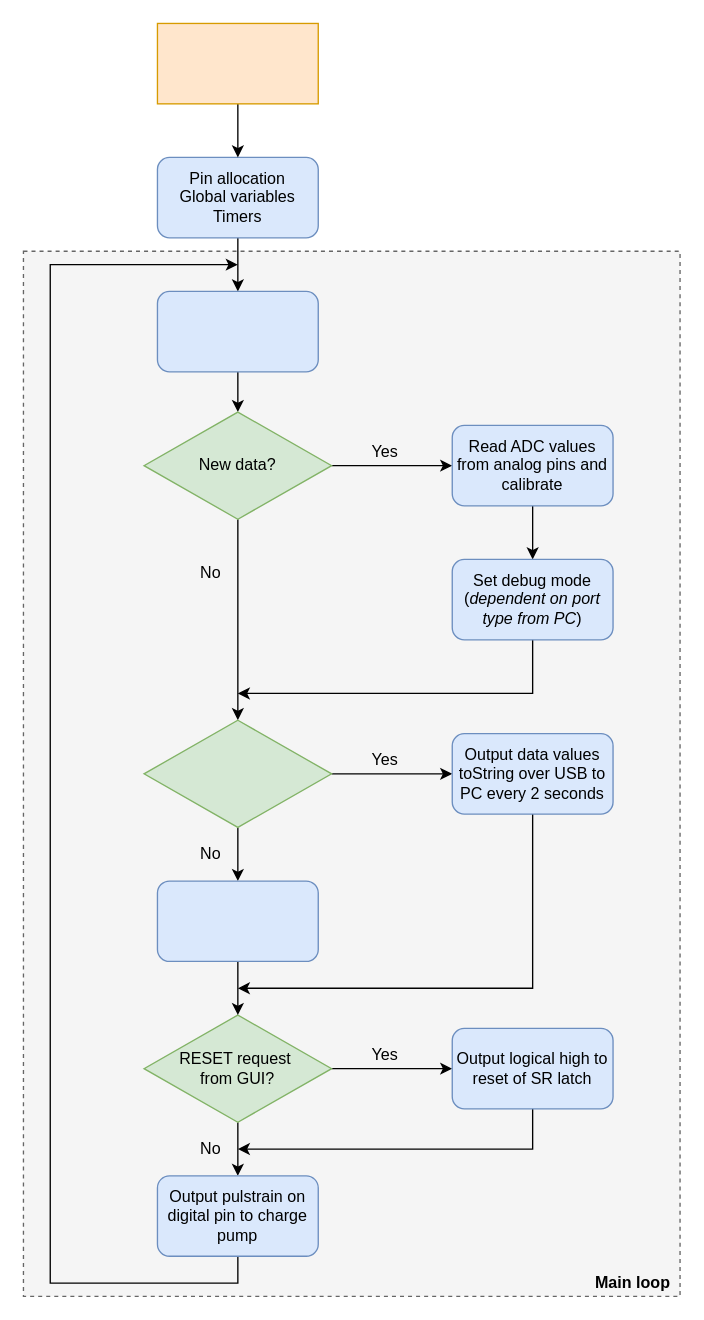
This 704x1320 diagram has some shape labels left out. The box of each missing label's shape, as (x1, y1, x2, y2) in pixels:
Debug mode?: (143, 719, 332, 827)
Output single string to PC ( dependent on command type from PC ): (156, 880, 318, 961)
Receive data request from PC over USB: (156, 290, 318, 372)
Start: (156, 22, 318, 104)
